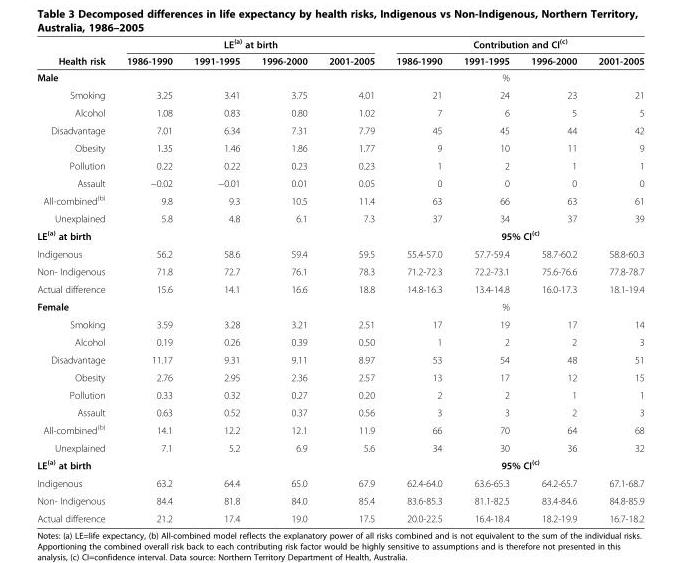table: (36, 36, 643, 523)
table column: (36, 36, 115, 523), (182, 36, 250, 523), (384, 36, 452, 523), (519, 36, 587, 523), (115, 36, 182, 523), (250, 36, 317, 523), (317, 36, 384, 523), (452, 36, 519, 523), (587, 36, 643, 523)
table column header: (36, 36, 643, 68)
table row: (36, 455, 643, 474), (36, 85, 643, 103), (36, 103, 643, 121), (36, 138, 643, 156), (36, 173, 643, 191), (36, 191, 643, 209), (36, 226, 643, 244), (36, 244, 643, 262), (36, 262, 643, 280), (36, 297, 643, 315), (36, 332, 643, 350), (36, 350, 643, 368), (36, 385, 643, 403), (36, 420, 643, 438), (36, 491, 643, 509), (36, 68, 643, 85), (36, 121, 643, 138), (36, 156, 643, 173), (36, 209, 643, 226), (36, 280, 643, 297), (36, 315, 643, 332), (36, 368, 643, 385), (36, 403, 643, 420), (36, 438, 643, 455), (36, 474, 643, 491), (36, 36, 643, 52), (36, 52, 643, 68), (36, 509, 643, 523)
table spanning cell: (115, 36, 384, 52), (384, 36, 643, 52), (36, 455, 250, 474), (36, 226, 250, 244), (452, 455, 587, 474), (36, 36, 115, 68), (452, 226, 587, 244)
